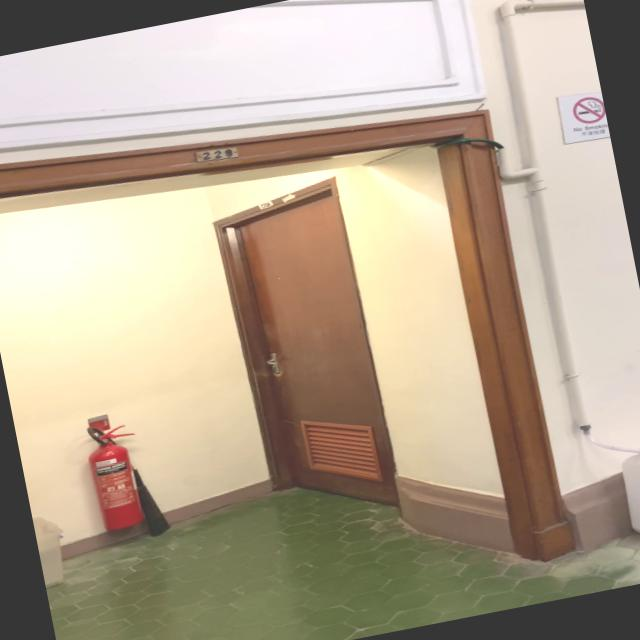room229: (192, 142, 242, 166)
